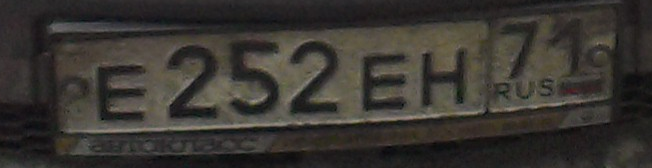character: (223, 28, 282, 121), (160, 42, 223, 122), (285, 39, 345, 115), (418, 42, 474, 112), (93, 61, 152, 126), (360, 49, 410, 113), (499, 16, 540, 81), (547, 17, 590, 78)
